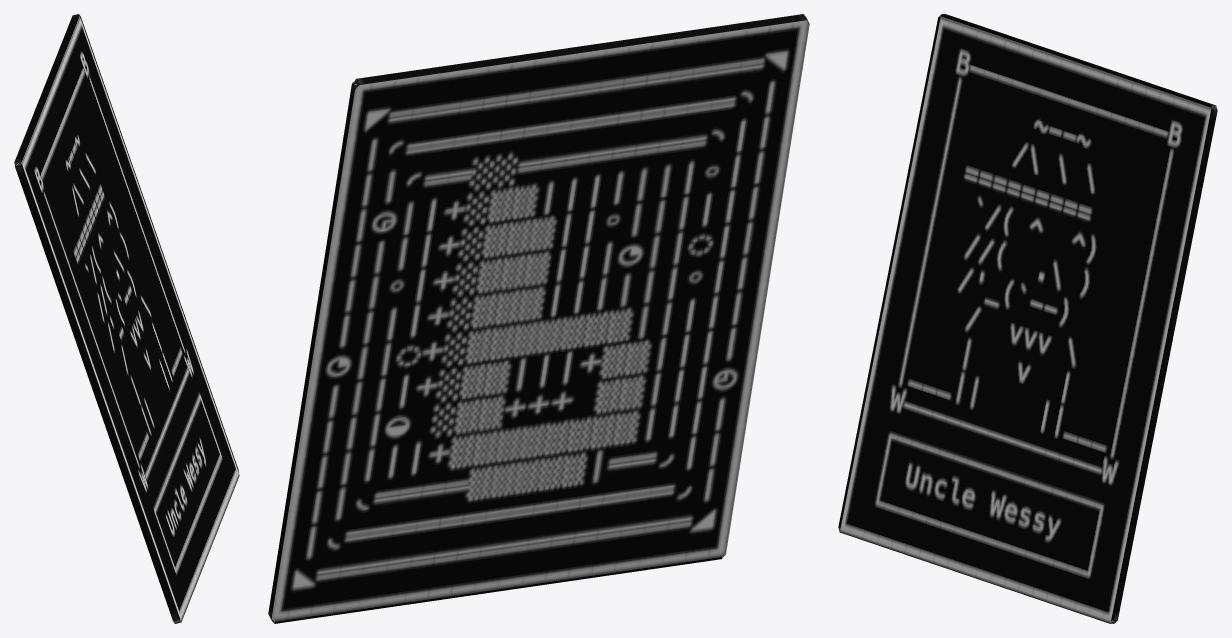
The model's file is ASCII_Unce_Wessy.glb.
3 renders of one model, left to right at view 1: azimuth 30°, elevation 25°; view 2: azimuth 150°, elevation 25°; view 3: azimuth 270°, elevation 25°, orthographic. The views are drawn at different scales.
Parts seen in each view (by area): view 1: Cube; view 2: Cube; view 3: Cube.
Boxes of the visible parts, bbox=[...] form: Cube: bbox=[14, 14, 239, 623]; Cube: bbox=[268, 14, 809, 623]; Cube: bbox=[838, 14, 1217, 623].
Size of the model in its own units: 2.03 by 2.89 by 2.12.
1 material, 1 textured.
